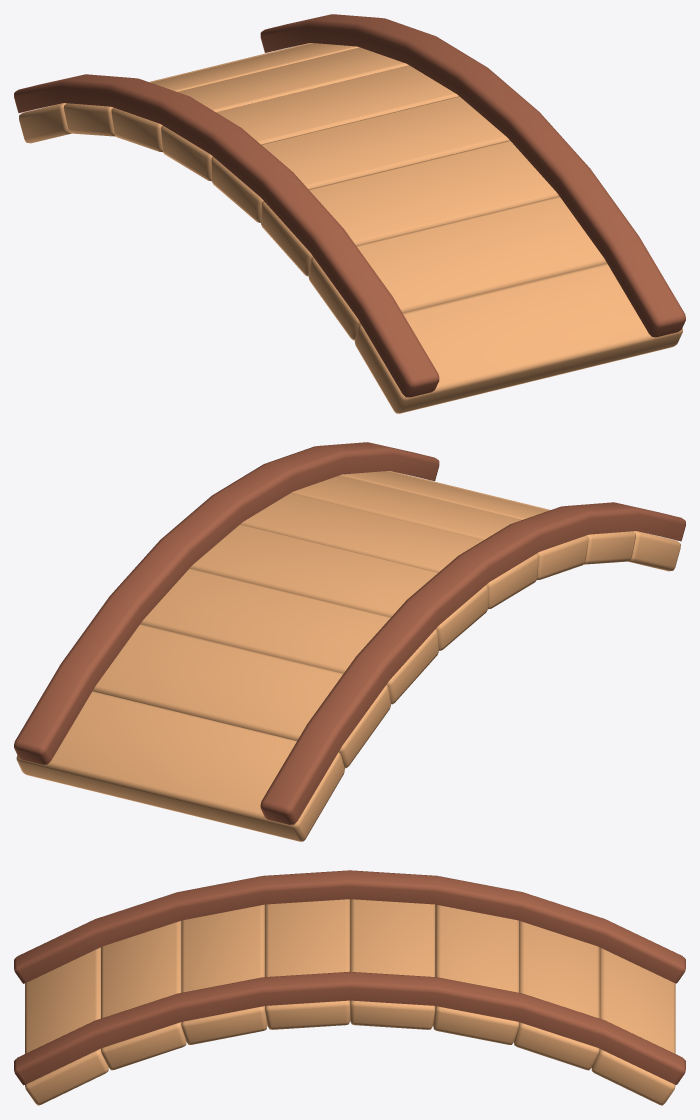
File: Bridge_04.fbx
The picture shows the model from 3 angles, top to bottom: view 1: azimuth 30°, elevation 25°; view 2: azimuth 150°, elevation 25°; view 3: azimuth 270°, elevation 25°; orthographic projection. The views are drawn at different scales.
Parts seen in each view (by area): view 1: Bridge_04; view 2: Bridge_04; view 3: Bridge_04.
Part boxes in pixels (x1=…): Bridge_04: x1=14, y1=14, x2=685, y2=413; Bridge_04: x1=14, y1=442, x2=685, y2=841; Bridge_04: x1=14, y1=870, x2=685, y2=1105.
Bounding box in the file's own units: 4097 × 2012 × 10001.
